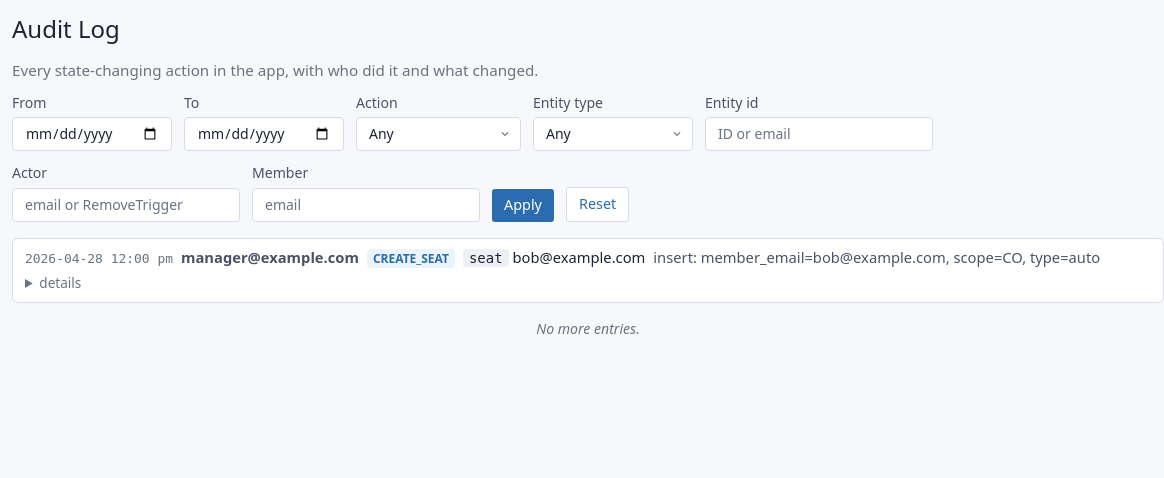
Scenario: <AuditLogPage /> › expands the diff details when the user clicks the summary
The width and height of the screenshot is (1164, 478).
Click the heading "details" at (60, 283), box [39,274,81,292]
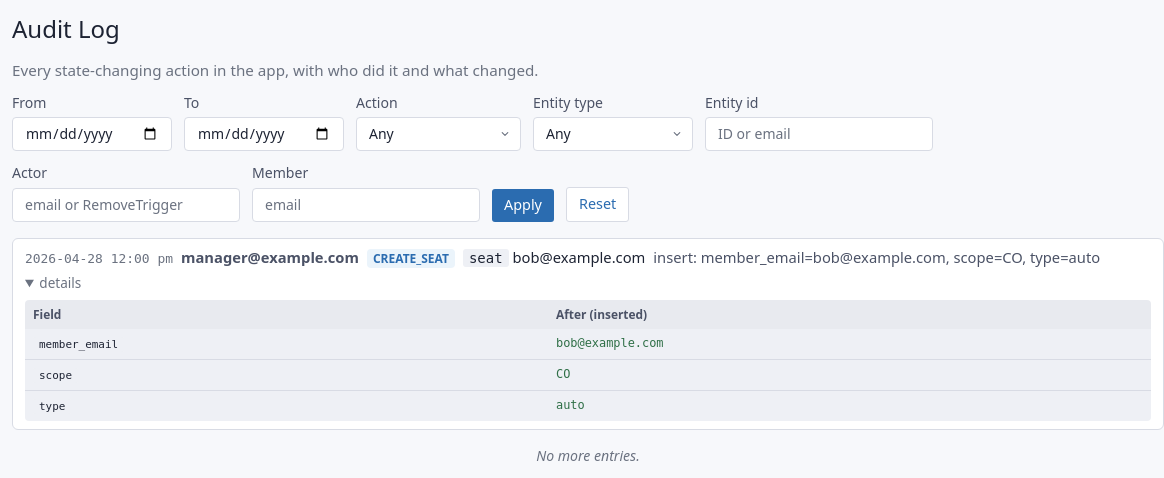
Now the text "bob@example.com" is shown, box [548,329,1151,360]
Now the text "CO" is shown, box [548,360,1151,391]
Now the text "auto" is shown, box [548,391,1151,421]
